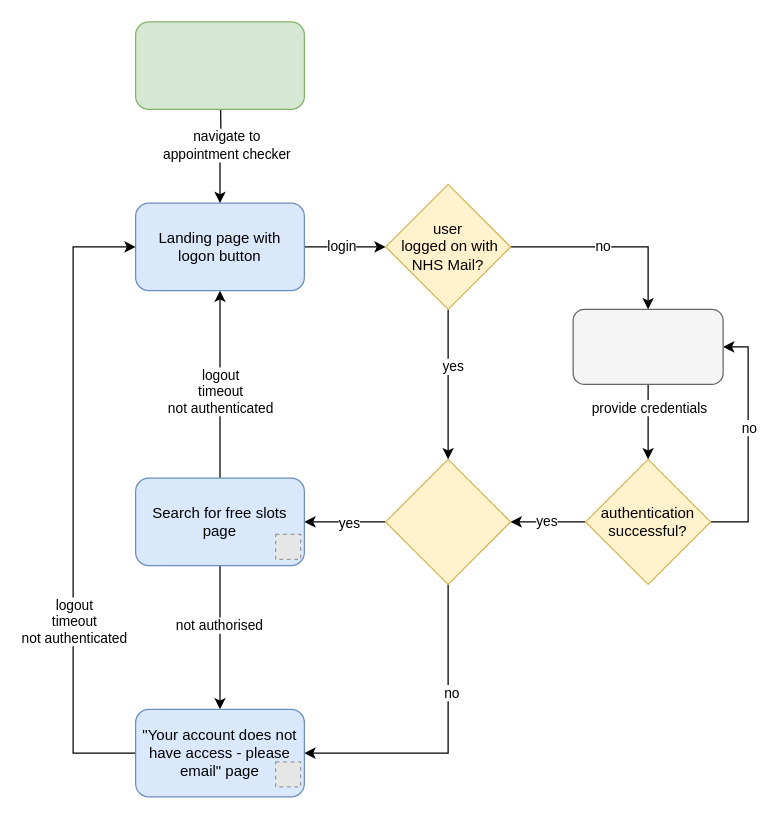
Image size: 780x819. Some labels were removed from this diagram. Grey dashed boxes stand in for pictures. The centre of each missing label's shape, as x and y in pixels:
"is user authorised?" goes at point (447, 521).
"NHS Mail logon page" goes at point (647, 346).
"Start" goes at point (219, 65).
